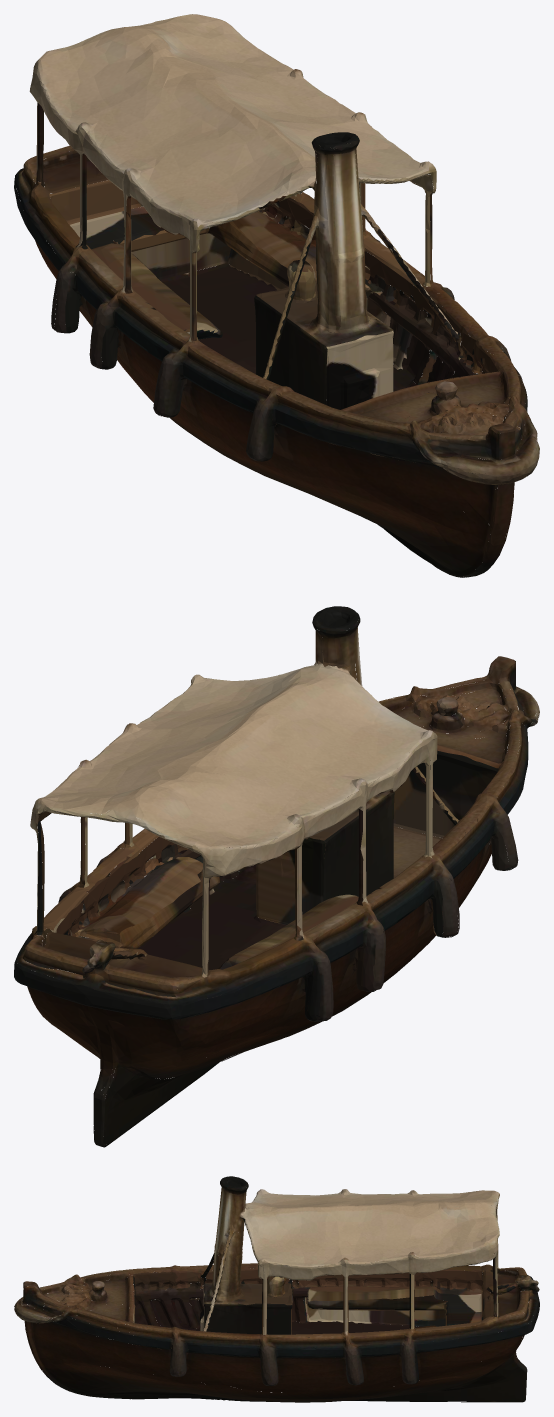
Rendered from steam_pinnace.glb.
The picture shows the model from 3 angles, top to bottom: view 1: azimuth 30°, elevation 25°; view 2: azimuth 150°, elevation 25°; view 3: azimuth 270°, elevation 25°; orthographic projection. The views are drawn at different scales.
Visible parts, largest first — view 1: HullBody; view 2: HullBody; view 3: HullBody.
Part boxes in pixels (<box>): HullBody: <box>14,14,539,577</box>; HullBody: <box>14,606,539,1147</box>; HullBody: <box>14,1176,539,1402</box>.
Bounding box in the file's own units: 6.09 × 6.96 × 15.
Materials: 1 (1 with a texture image).
